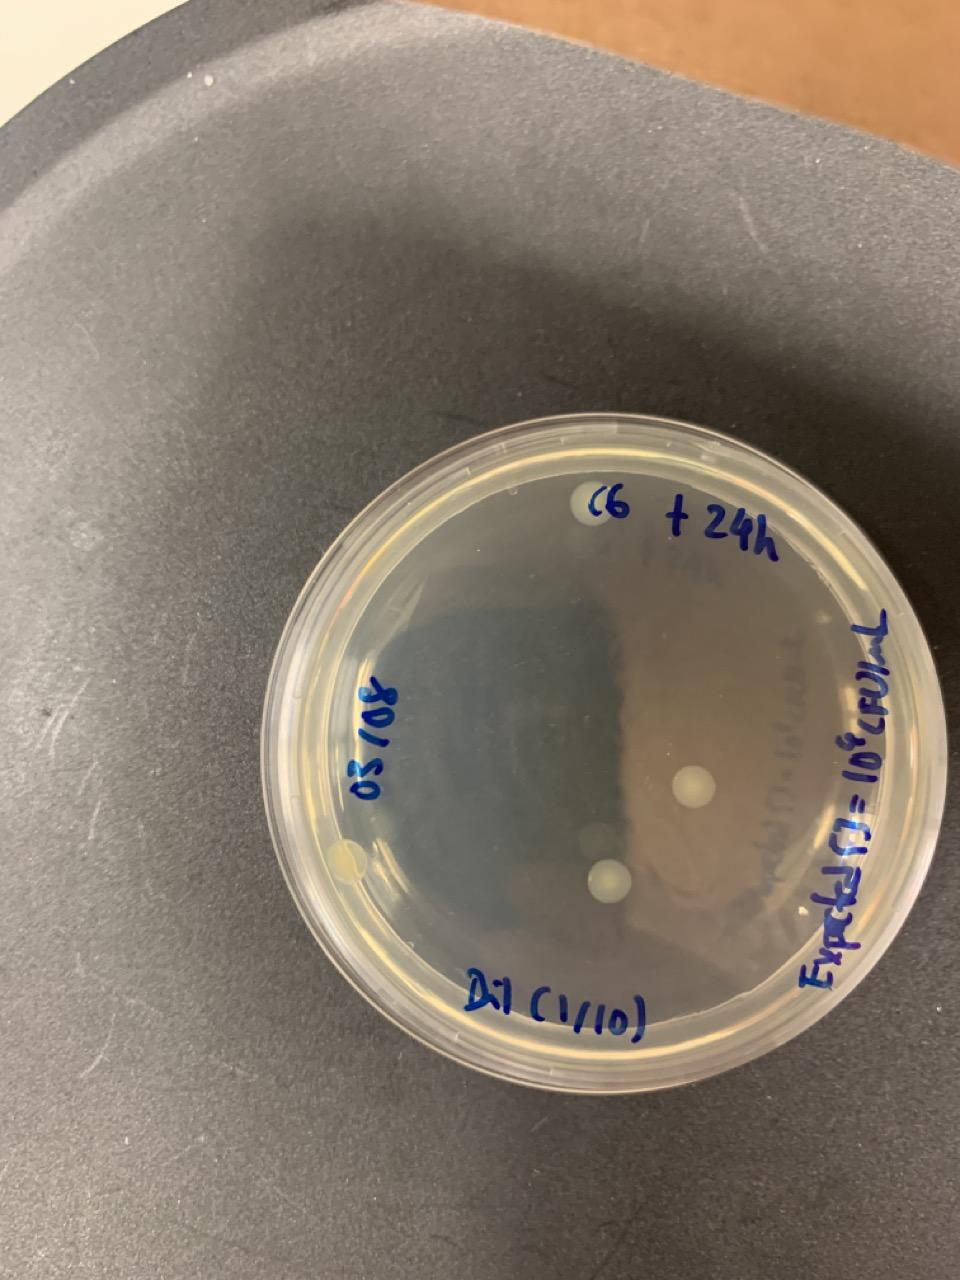colony: (321, 835, 371, 888), (585, 854, 634, 906), (568, 475, 615, 529), (669, 762, 718, 810)
